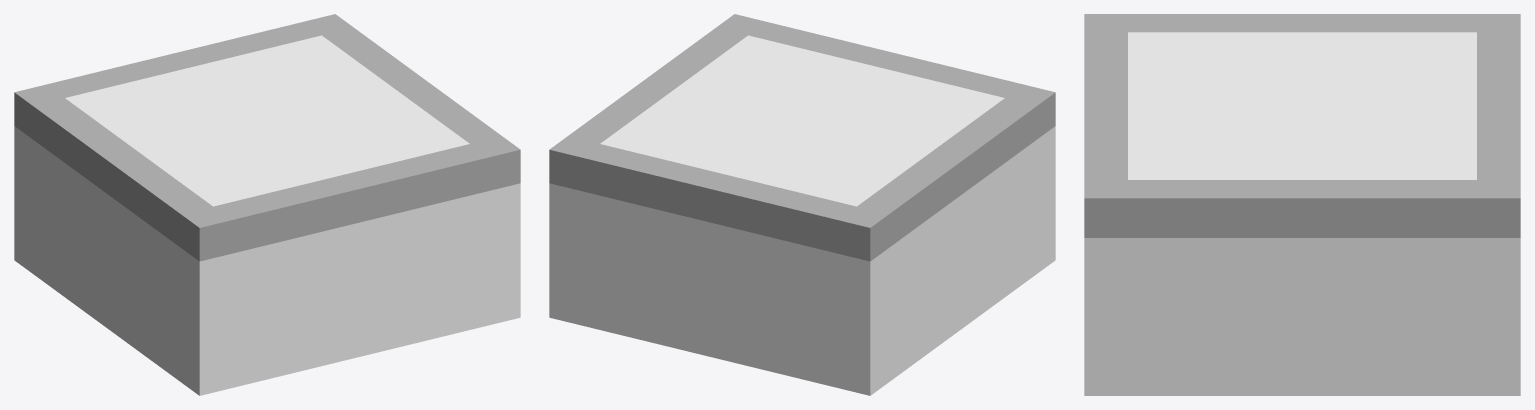
The picture shows the model from 3 angles, left to right: view 1: azimuth 30°, elevation 25°; view 2: azimuth 150°, elevation 25°; view 3: azimuth 270°, elevation 25°; orthographic projection. The views are drawn at different scales.
Parts seen in each view (by area): view 1: Matrix; view 2: Matrix; view 3: Matrix.
Boxes of the visible parts, x1=… form: Matrix: x1=14, y1=14, x2=520, y2=395; Matrix: x1=549, y1=14, x2=1055, y2=395; Matrix: x1=1084, y1=14, x2=1520, y2=395.
Bounding box in the file's own units: 10 × 5 × 10.
1 material, 1 textured.
